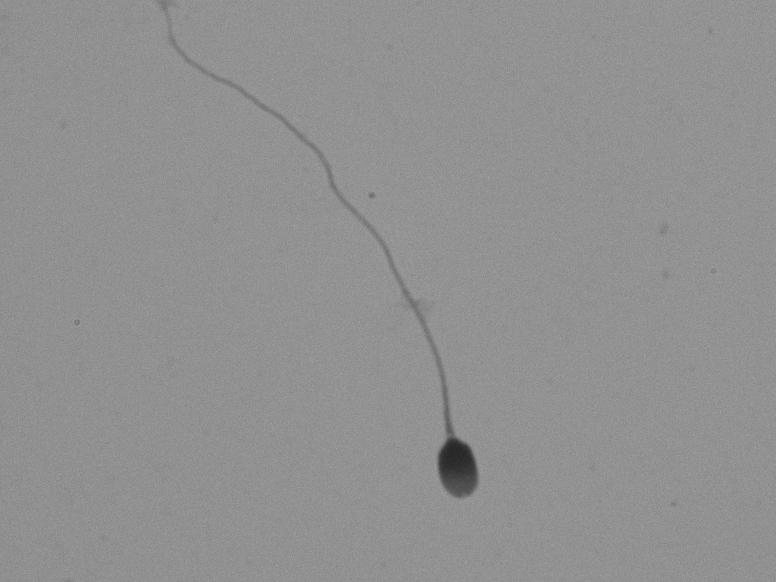Normal: (166, 29, 546, 536)
